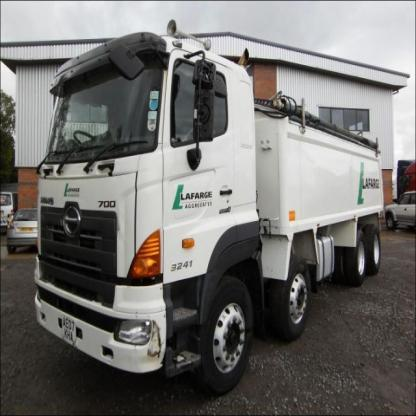dump_truck: (25, 16, 388, 409)
